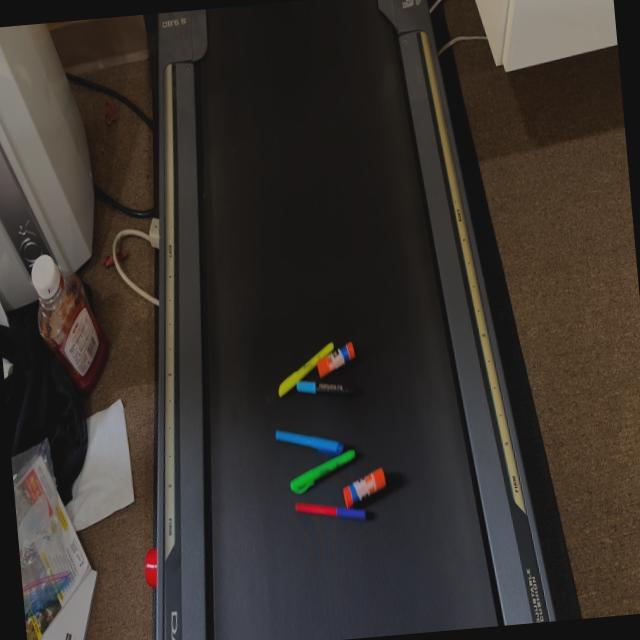Trash: (278, 409, 390, 522), (278, 337, 362, 402)
